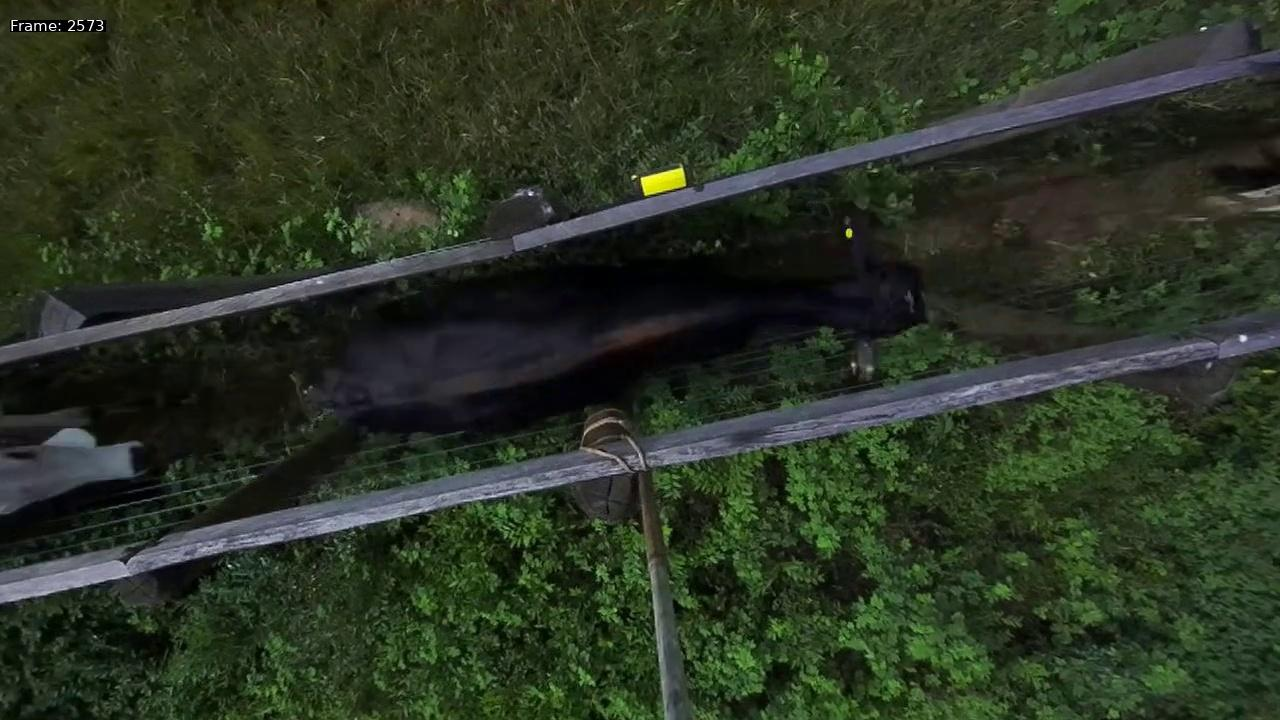cattle: (302, 167, 922, 449)
